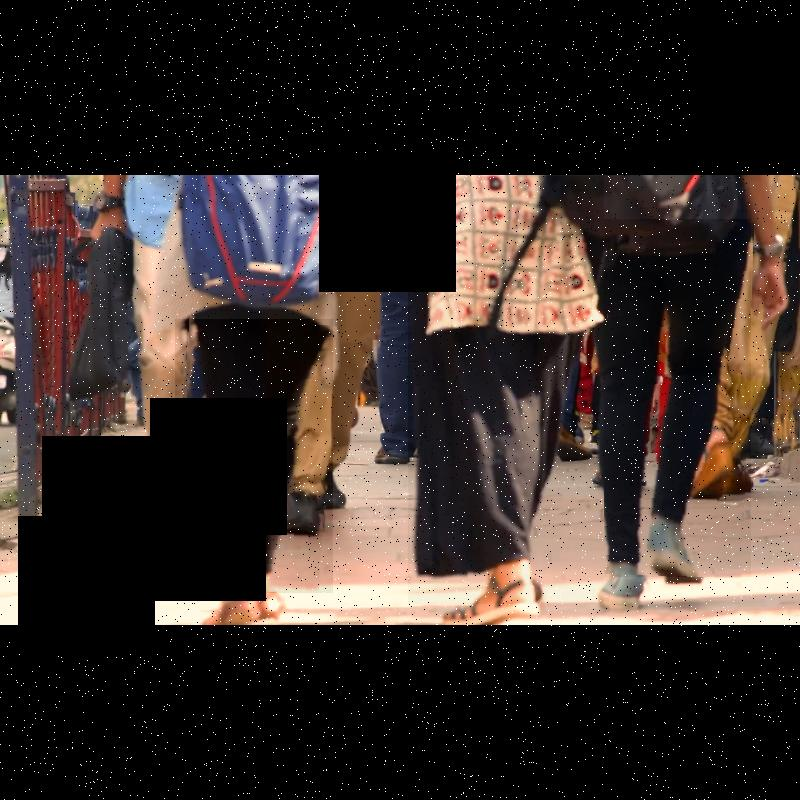Churidaar: (408, 176, 604, 604)
Pant: (601, 219, 751, 577), (175, 319, 333, 593)
